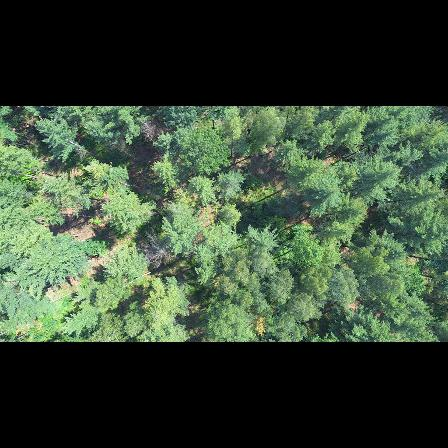Dead: (133, 227, 175, 270)
